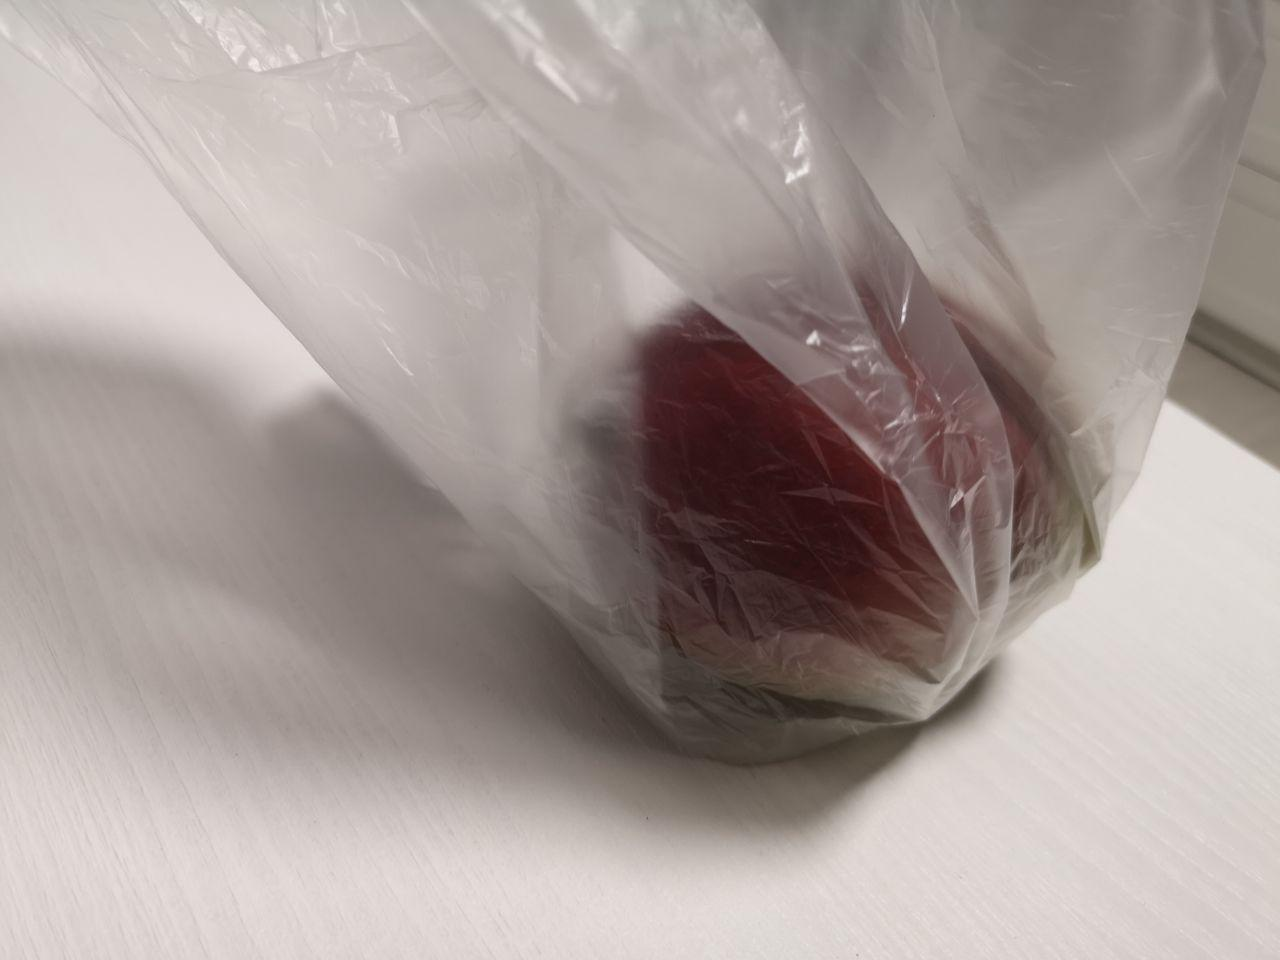mango: (346, 125, 1185, 841)
